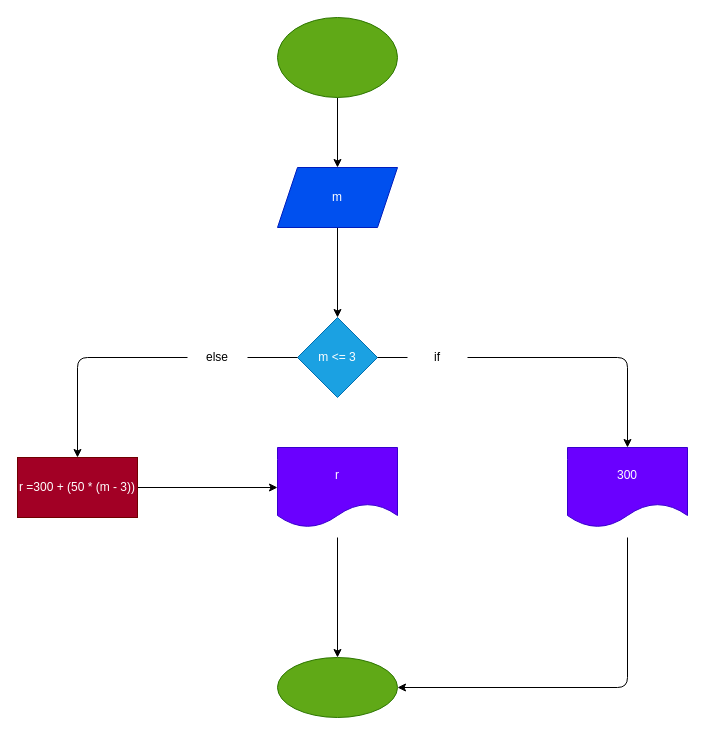
Some shapes in this 705 by 735 pixel diagram are drawn without their labels. The box of each missing label's shape, as (x1, y1, x2, y2) in pixels:
fin: (276, 656, 398, 718)
inicio: (276, 16, 398, 98)
